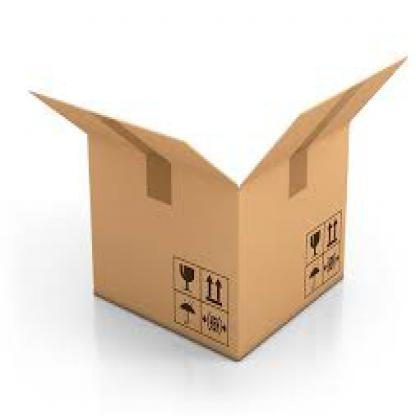paquete: (23, 30, 408, 358)
